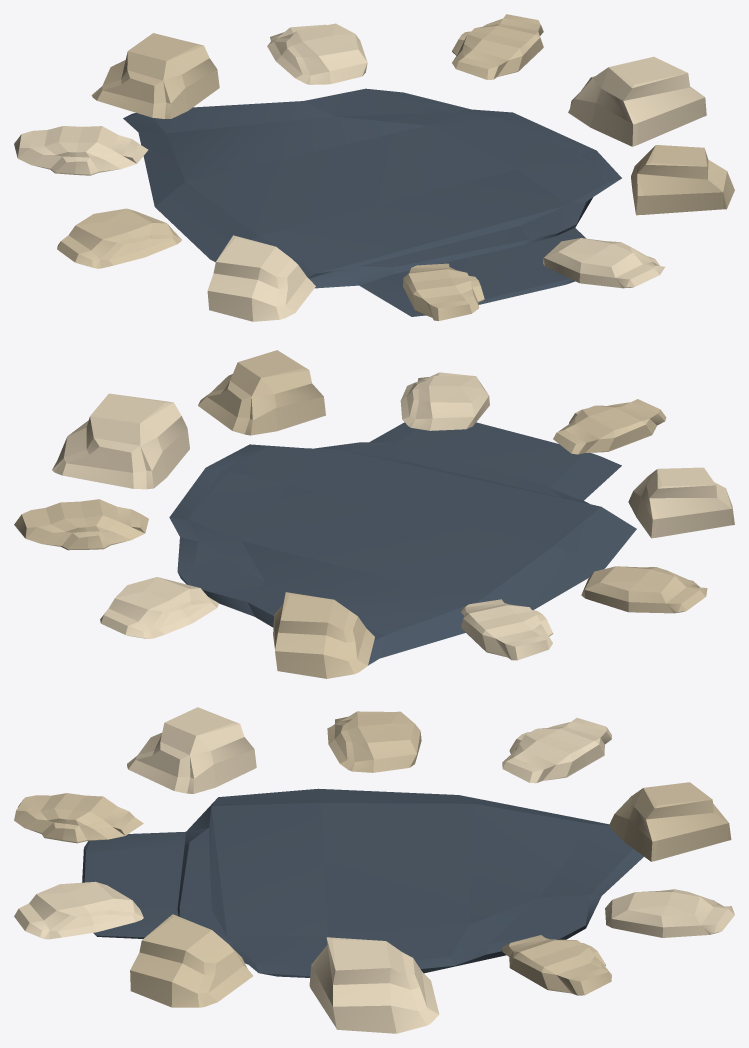
The model's file is env_slot_pad.glb.
3 views of the same model, one above another, from view 1: azimuth 30°, elevation 25°; view 2: azimuth 150°, elevation 25°; view 3: azimuth 270°, elevation 25° (orthographic). The views are drawn at different scales.
Visible parts, largest first — view 1: env_slot_pad; view 2: env_slot_pad; view 3: env_slot_pad.
Boxes of the visible parts, left/top/right/bottom form: env_slot_pad: left=14, top=14, right=734, bottom=321; env_slot_pad: left=14, top=350, right=734, bottom=678; env_slot_pad: left=14, top=707, right=734, bottom=1033.
Size of the model in its own units: 1.33 by 0.1312 by 1.28.
Materials: 1 (1 with a texture image).
